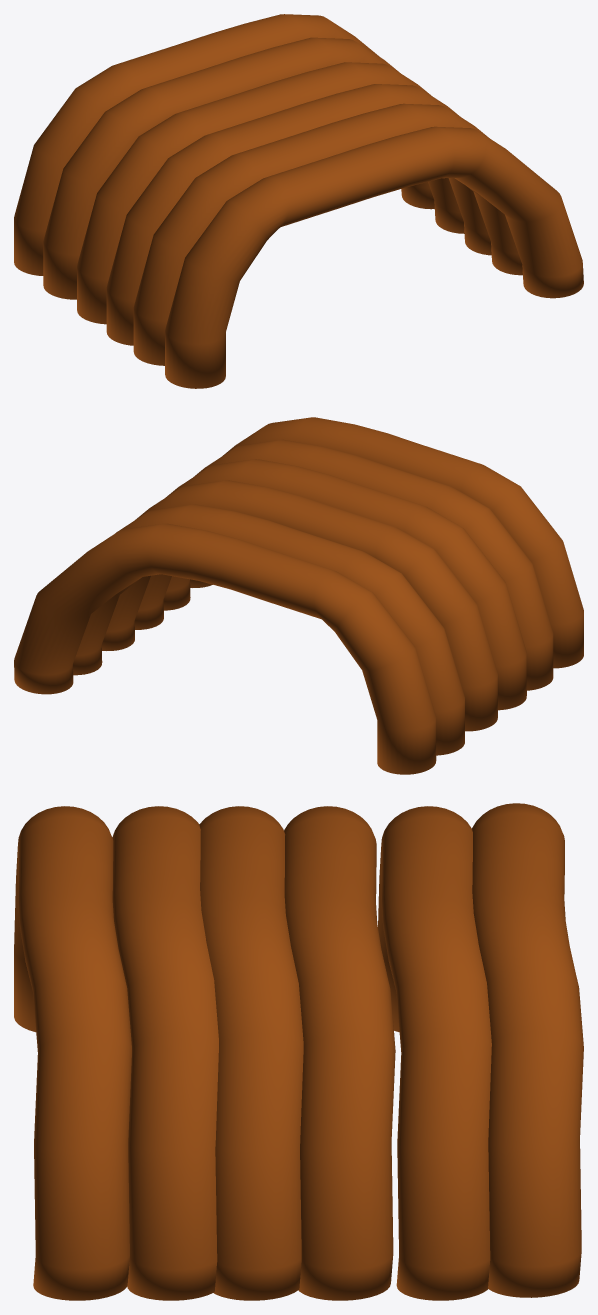
Rendered from techo cueva.fbx.
The picture shows the model from 3 angles, top to bottom: view 1: azimuth 30°, elevation 25°; view 2: azimuth 150°, elevation 25°; view 3: azimuth 270°, elevation 25°; orthographic projection. The views are drawn at different scales.
Parts seen in each view (by area): view 1: Cueva; view 2: Cueva; view 3: Cueva.
Part boxes in pixels (x1,y1,x2,y2): Cueva: (14, 14, 583, 388); Cueva: (14, 417, 583, 774); Cueva: (14, 803, 583, 1300).
Size of the model in its own units: 1953 by 848 by 1552.
